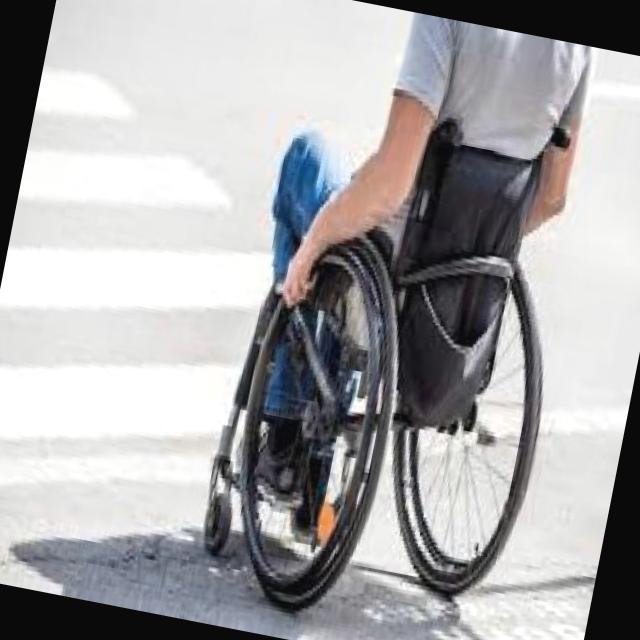Person: (185, 0, 612, 640)
